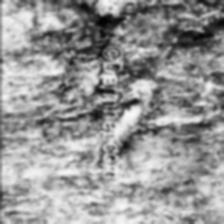Potentially Malignant Skin Tumors: (51, 55, 151, 150)
